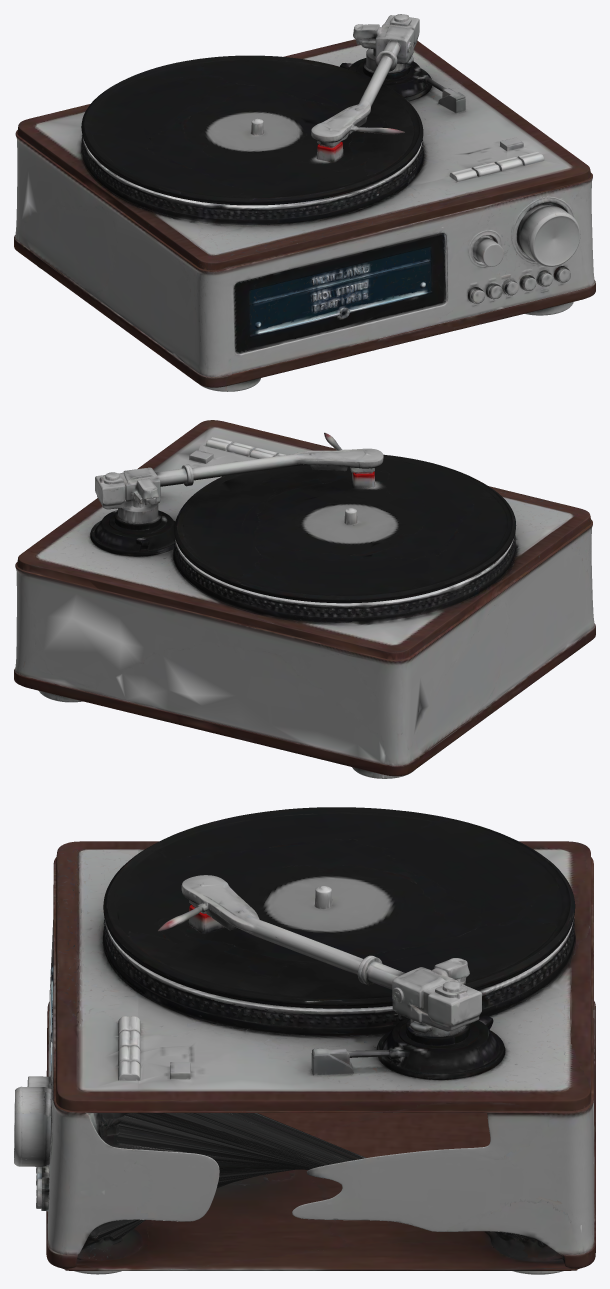
File: vinyl2.glb
3 views of the same model, one above another, from view 1: azimuth 30°, elevation 25°; view 2: azimuth 150°, elevation 25°; view 3: azimuth 270°, elevation 25° (orthographic). The views are drawn at different scales.
Visible parts, largest first — view 1: node_0; view 2: node_0; view 3: node_0.
Boxes of the visible parts, x1,y1,x2,y2 form: node_0: [14, 14, 595, 391]; node_0: [14, 420, 595, 778]; node_0: [14, 807, 595, 1274].
Size of the model in its own units: 0.8585 by 0.4016 by 0.8015.
Materials: 1 (1 with a texture image).
